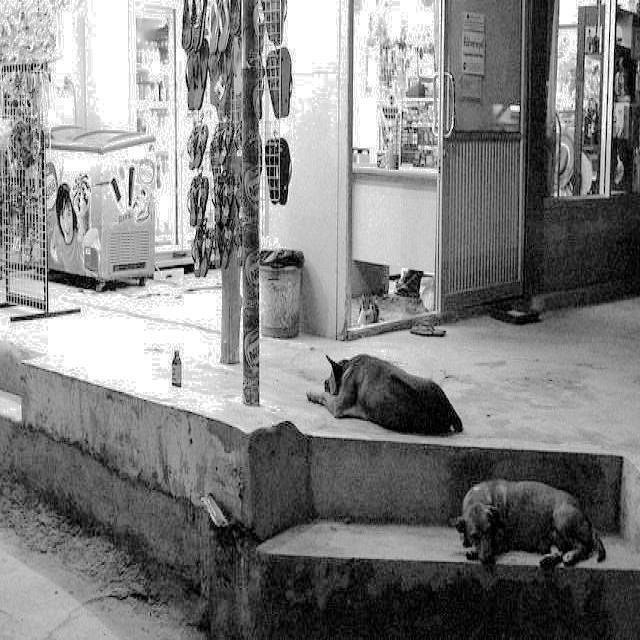Dog: (447, 473, 612, 577), (319, 351, 464, 438)
